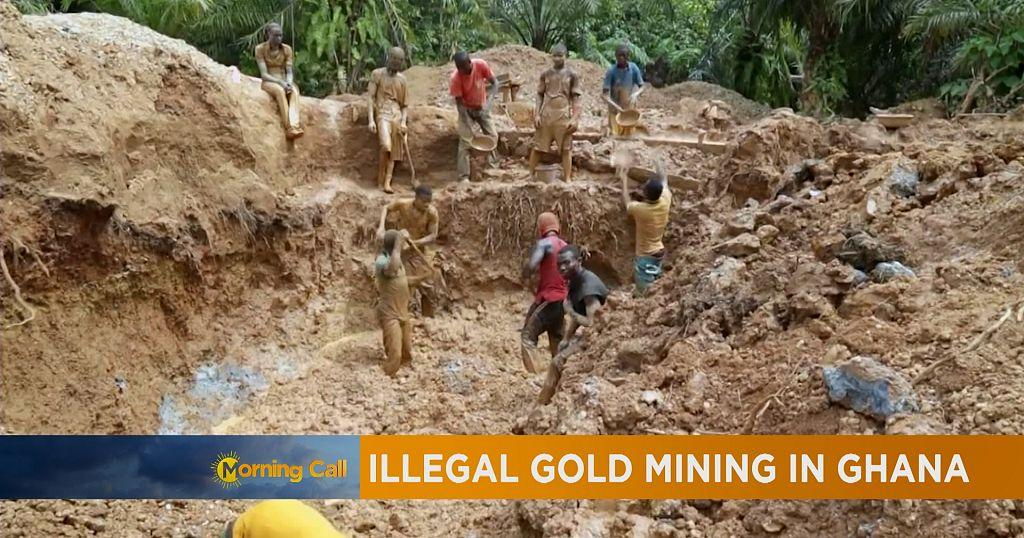MiningTool: (402, 230, 447, 297), (396, 123, 424, 193), (606, 140, 638, 173), (615, 105, 644, 130), (468, 135, 496, 158), (877, 110, 912, 128), (532, 164, 563, 182)
Person: (530, 242, 608, 411), (520, 208, 567, 378), (530, 43, 581, 187), (451, 48, 499, 183), (363, 47, 407, 194), (251, 24, 306, 141), (619, 164, 673, 280), (378, 228, 418, 375), (600, 41, 646, 139)
ProcessingEquiment: (469, 68, 520, 110)
